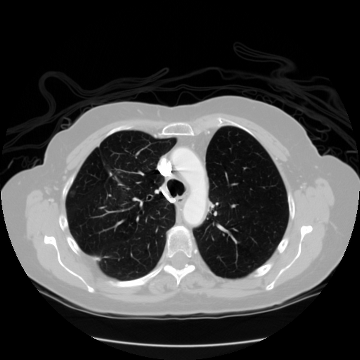nodule: (68, 189, 76, 197)
